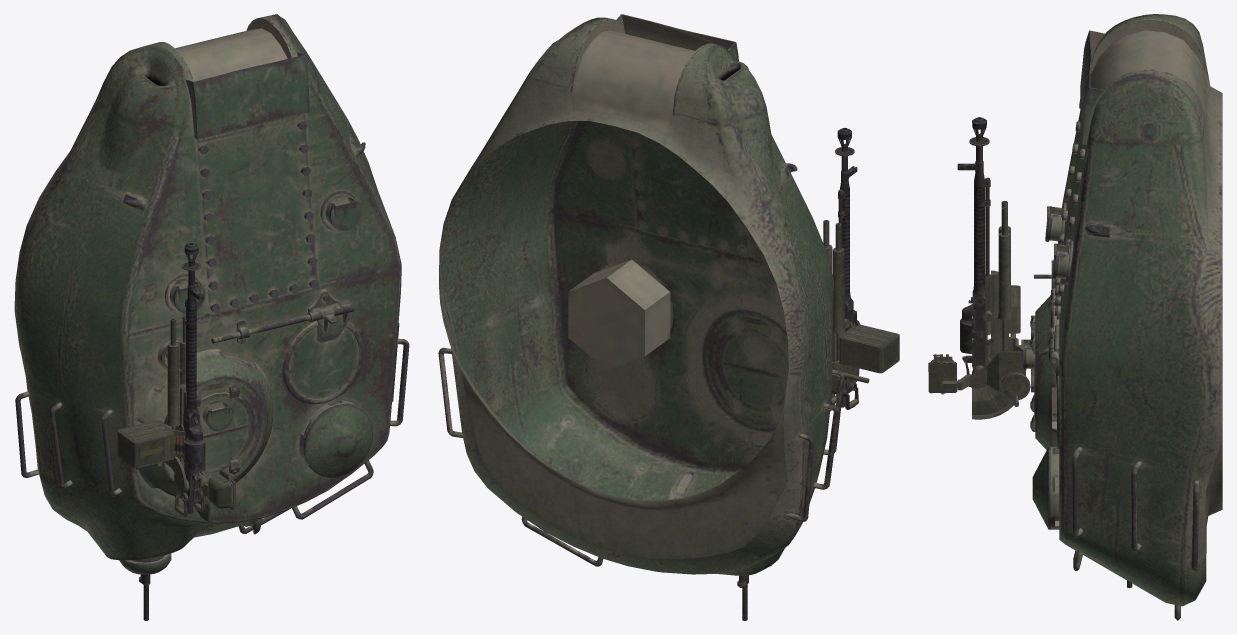
Rendered from Turret_01.glb.
3 renders of one model, left to right at view 1: azimuth 30°, elevation 25°; view 2: azimuth 150°, elevation 25°; view 3: azimuth 270°, elevation 25°, orthographic. The views are drawn at different scales.
Visible parts, largest first — view 1: set_0_group_0; view 2: set_0_group_0; view 3: set_0_group_0.
Part boxes in pixels (box(x1,y1,x2,y2)): set_0_group_0: box(14, 14, 409, 620); set_0_group_0: box(438, 14, 899, 620); set_0_group_0: box(928, 14, 1222, 620).
Size of the model in its own units: 2.32 by 3.36 by 1.53.
1 material, 1 textured.
